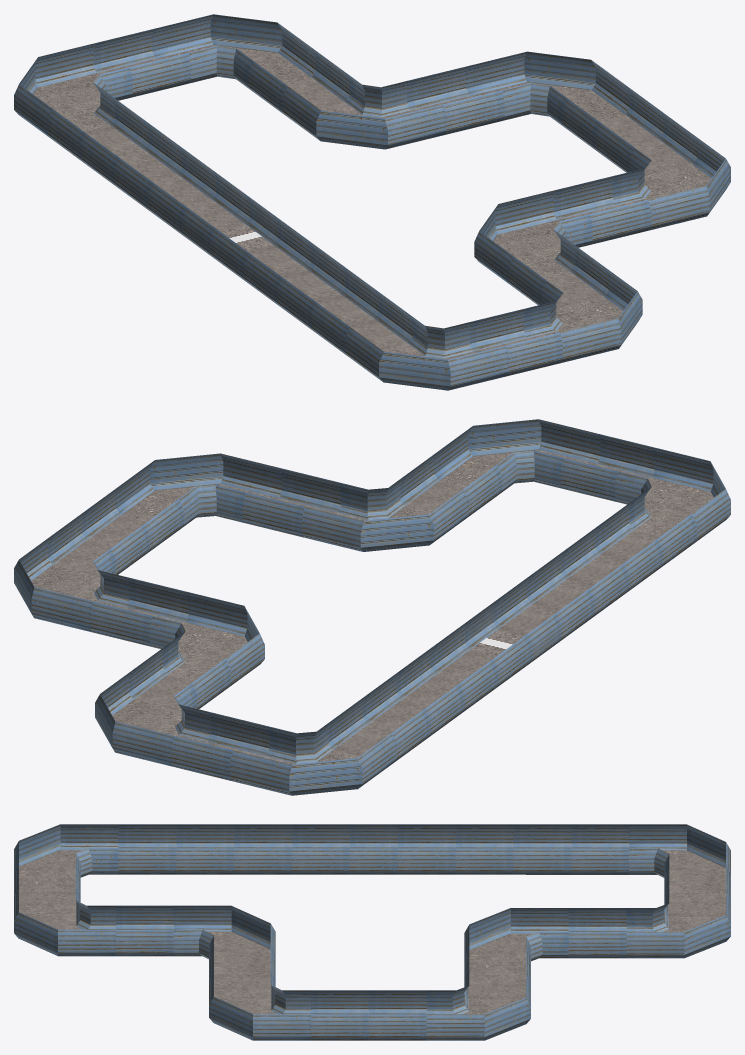
The model's file is mairetTrack.fbx.
3 views of the same model, one above another, from view 1: azimuth 30°, elevation 25°; view 2: azimuth 150°, elevation 25°; view 3: azimuth 270°, elevation 25° (orthographic). The views are drawn at different scales.
Parts seen in each view (by area): view 1: pCube31; view 2: pCube31; view 3: pCube31.
Part boxes in pixels (<box>): pCube31: <box>14,14,730,390</box>; pCube31: <box>14,419,730,795</box>; pCube31: <box>14,824,730,1040</box>.
Size of the model in its own units: 7.95 by 0.5015 by 12.4.
